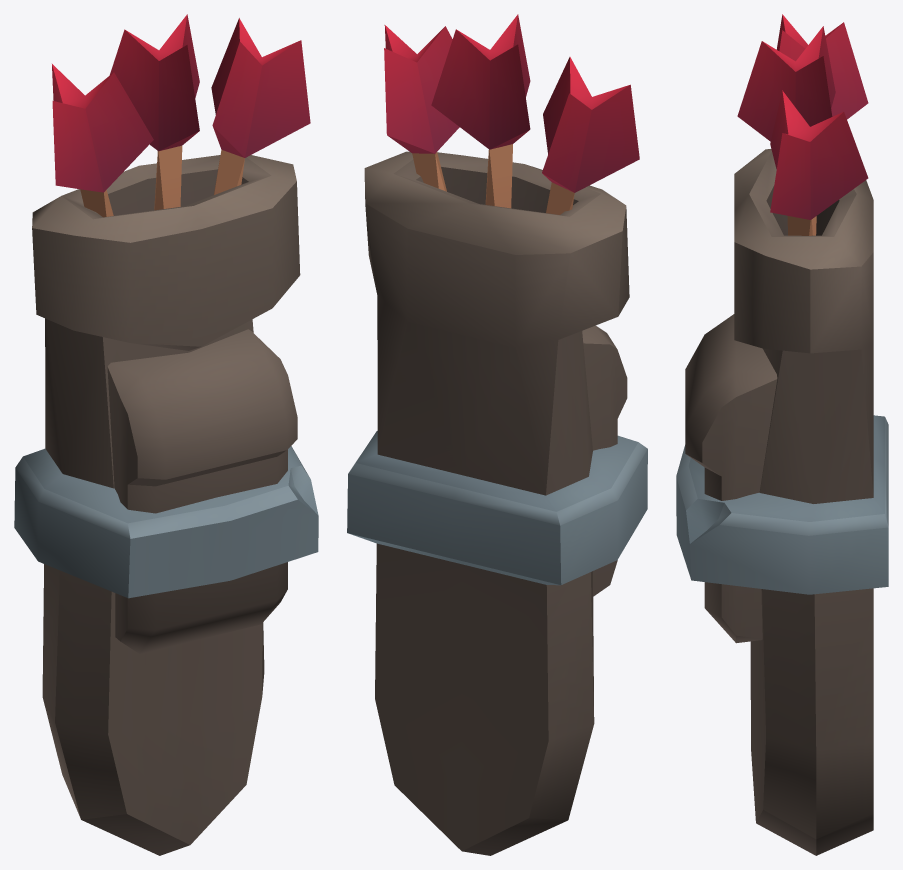
File: Skeleton_Quiver.glb
3 views of the same model, side by side, from view 1: azimuth 30°, elevation 25°; view 2: azimuth 150°, elevation 25°; view 3: azimuth 270°, elevation 25° (orthographic). The views are drawn at different scales.
Visible parts, largest first — view 1: Skeleton_Quiver; view 2: Skeleton_Quiver; view 3: Skeleton_Quiver.
Part boxes in pixels (x1=…): Skeleton_Quiver: x1=14, y1=14, x2=318, y2=855; Skeleton_Quiver: x1=347, y1=14, x2=647, y2=855; Skeleton_Quiver: x1=676, y1=14, x2=888, y2=855.
Size of the model in its own units: 0.3054 by 0.9294 by 0.2196.
1 material, 1 textured.
